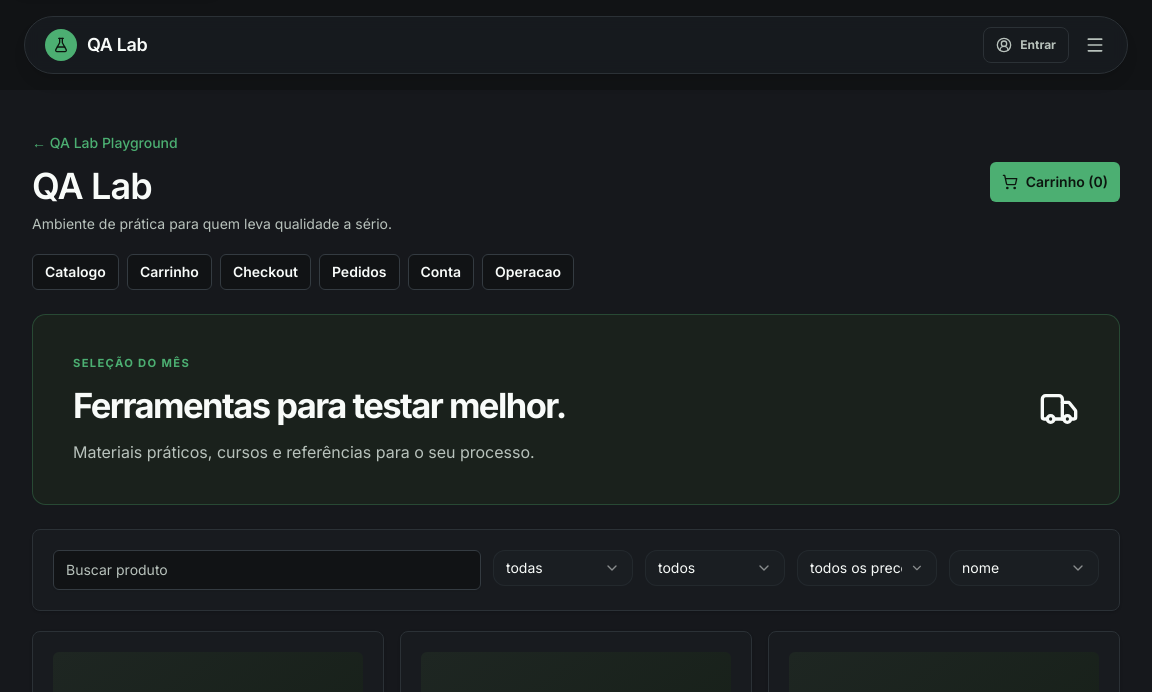
Test: Catálogo da loja › explica quando a busca não encontra produtos
In the field with test id "product-search": [267, 570] box left=53, top=550, right=481, bottom=590, type "produto inexistente"
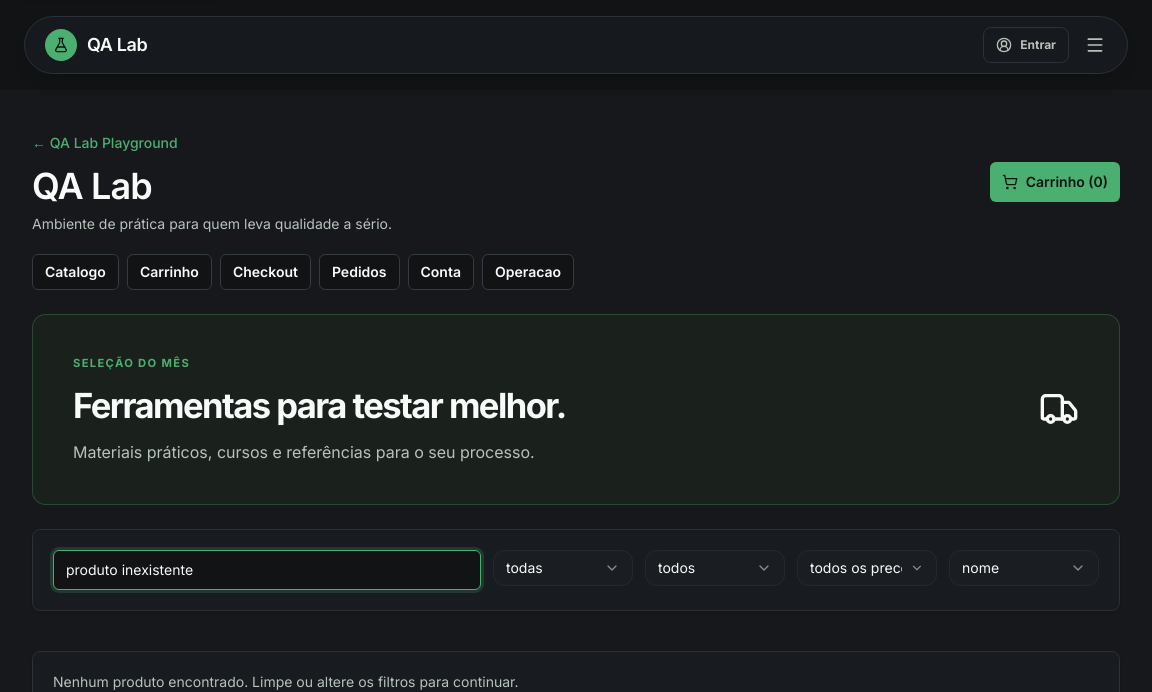
Expected: the message "Nenhum produto encontrado. Limpe ou altere os filtros para continuar." is shown, left=53, top=673, right=518, bottom=690
